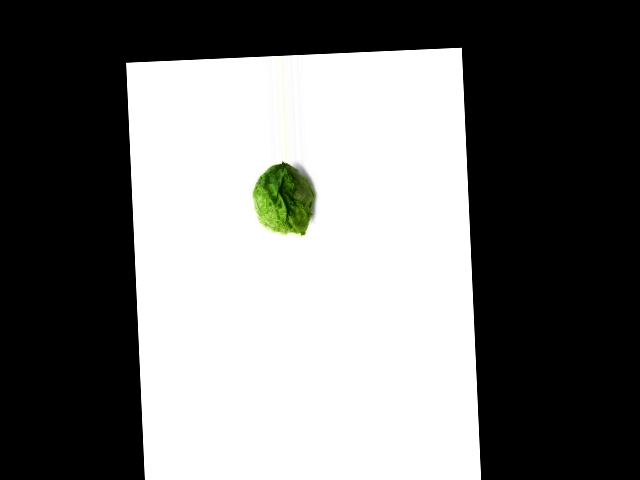lettuce: (246, 161, 319, 236)
